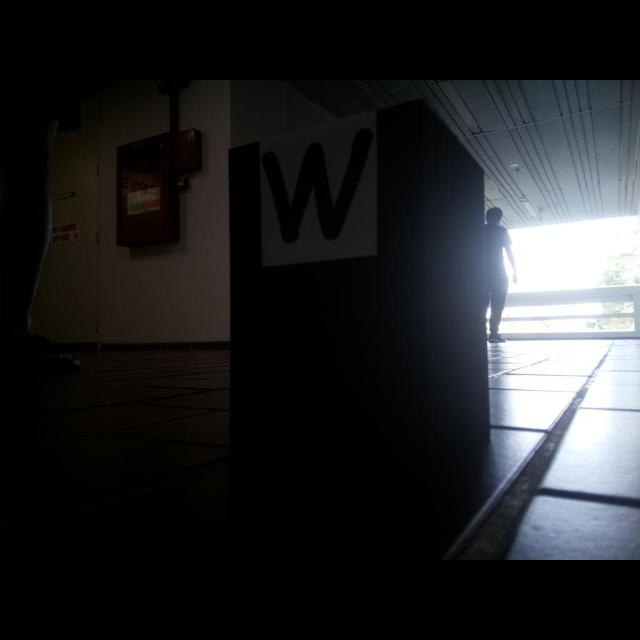W: (261, 126, 375, 245)
